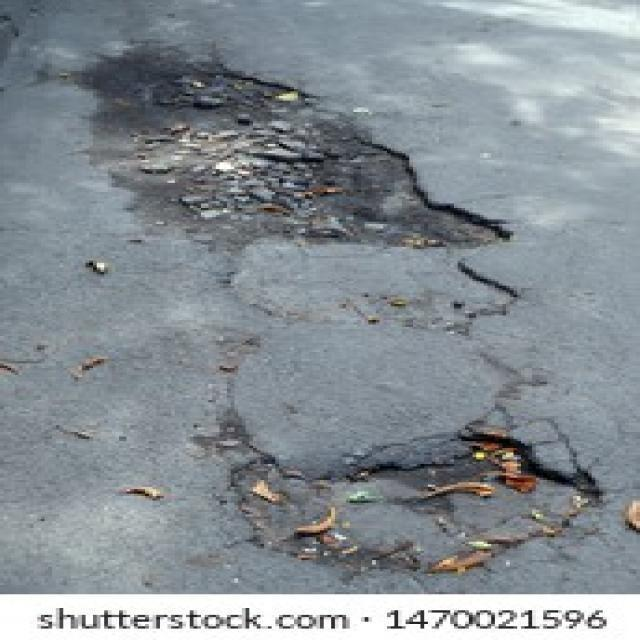Buraco: (54, 39, 528, 343), (221, 428, 609, 591)
